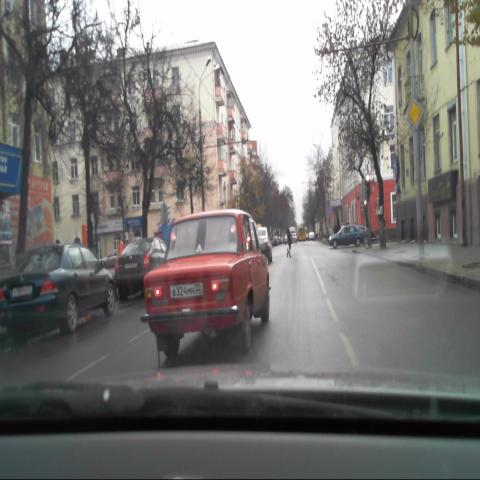2_1: (404, 96, 426, 135)
